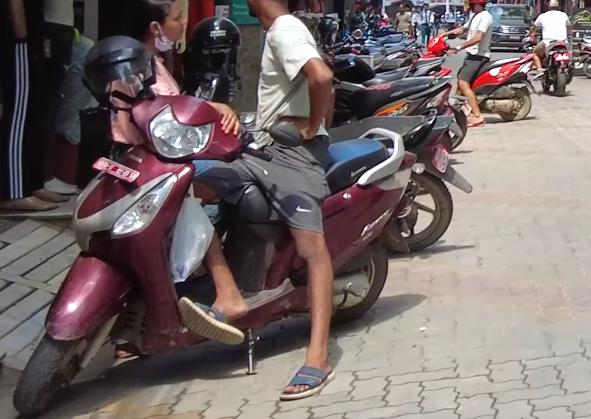scooter: (17, 85, 430, 419), (421, 31, 537, 124)
